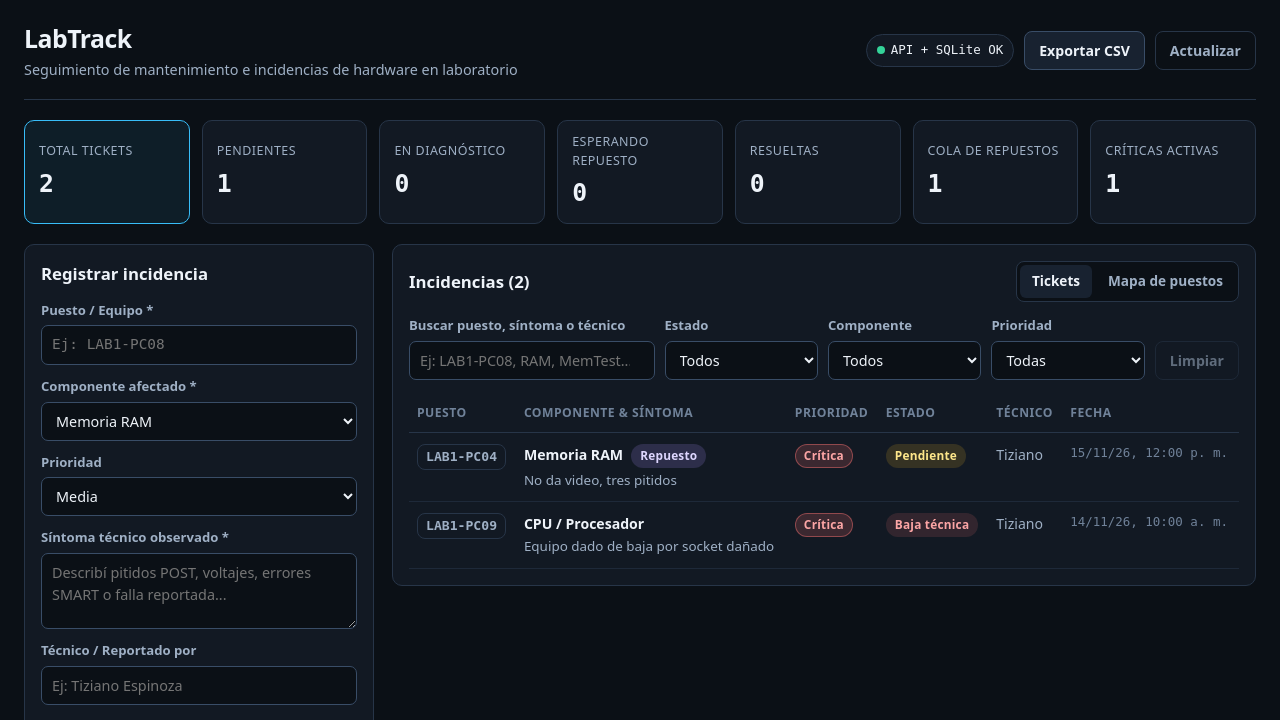
Test: LabTrack Frontend SPA › filtra Críticas activas desde StatCards excluyendo BAJA y mantiene verde API ante error 400
This screenshot has width=1280, height=720.
Expected: the text "No da video, tres pitidos" is shown, [524,471,677,489]
Step 1. Click the button "Críticas activas 1" → (1173, 172), box [1090,120,1256,224]
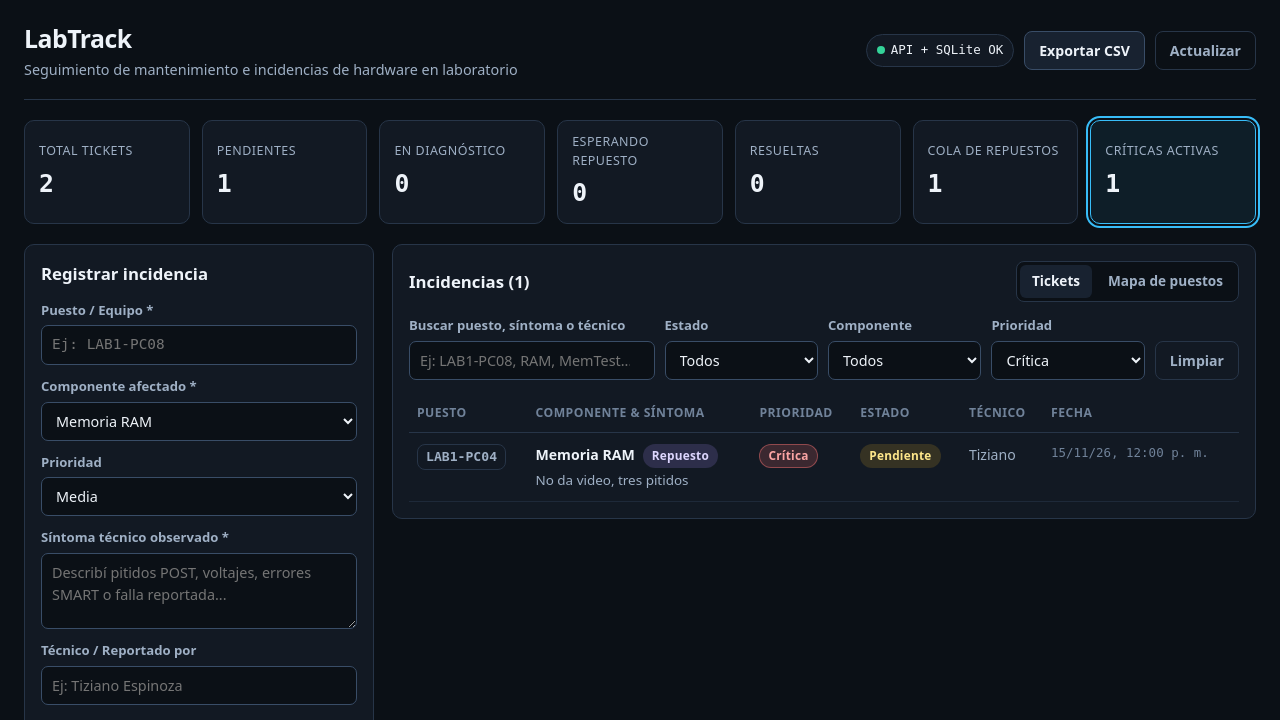
Expected: the text "No da video, tres pitidos" is shown, [536,471,688,489]
Now the text "Equipo dado de baja por socket dañado" is gone
Step 2. Type "error-400" into the search field labelled "Buscar puesto, síntoma o técnico" → (532, 360), box [409,340,654,380]
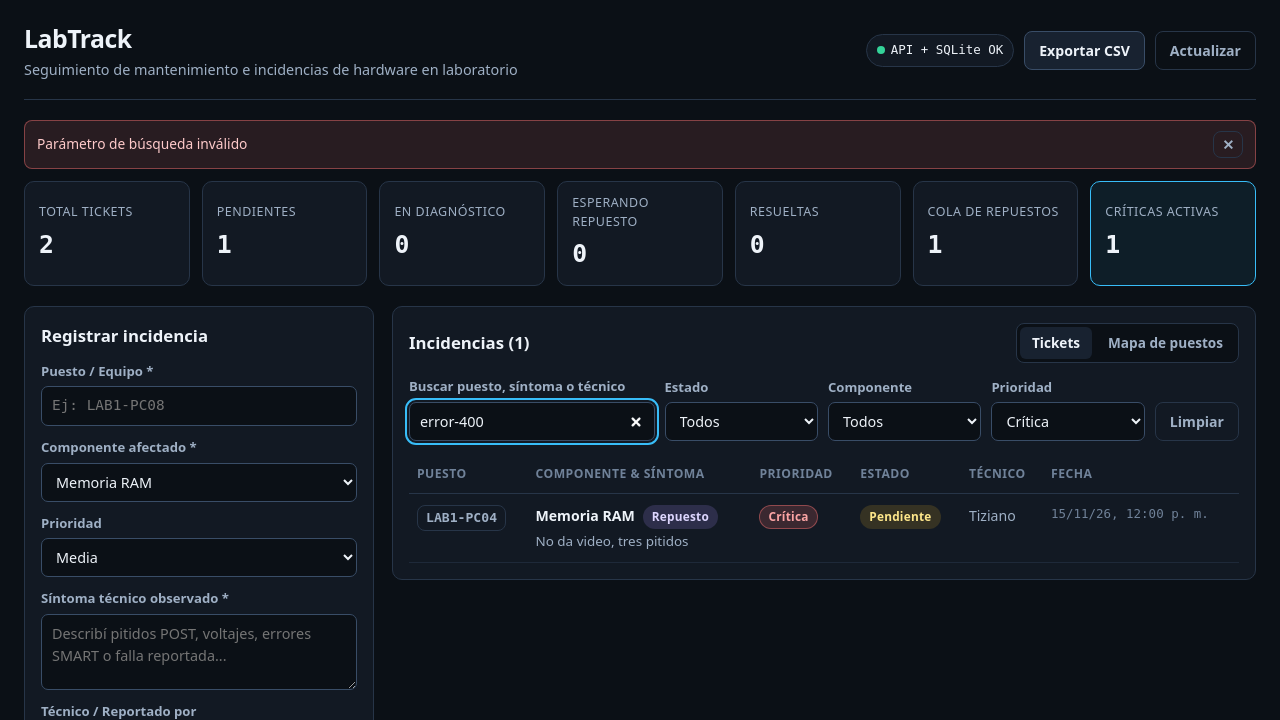
Expected: the text "API + SQLite OK" is shown, [891,41,1003,60]
Now the text "Parámetro de búsqueda inválido" is shown, box [37,134,247,155]
